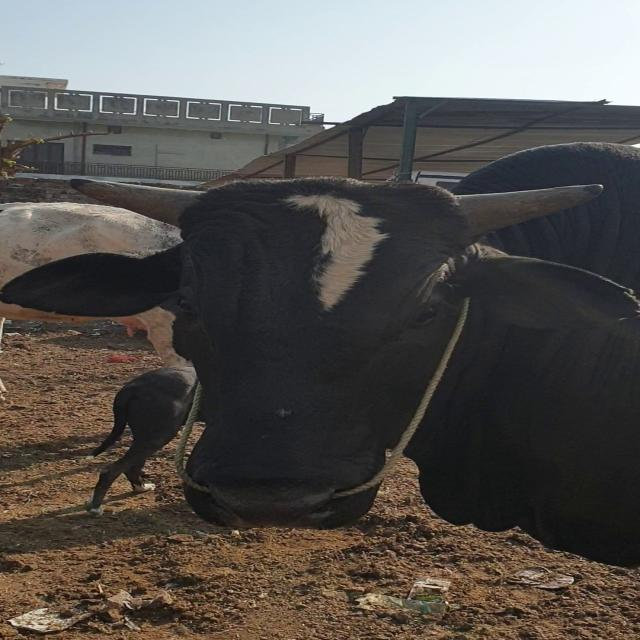cowFace: (166, 185, 477, 533)
